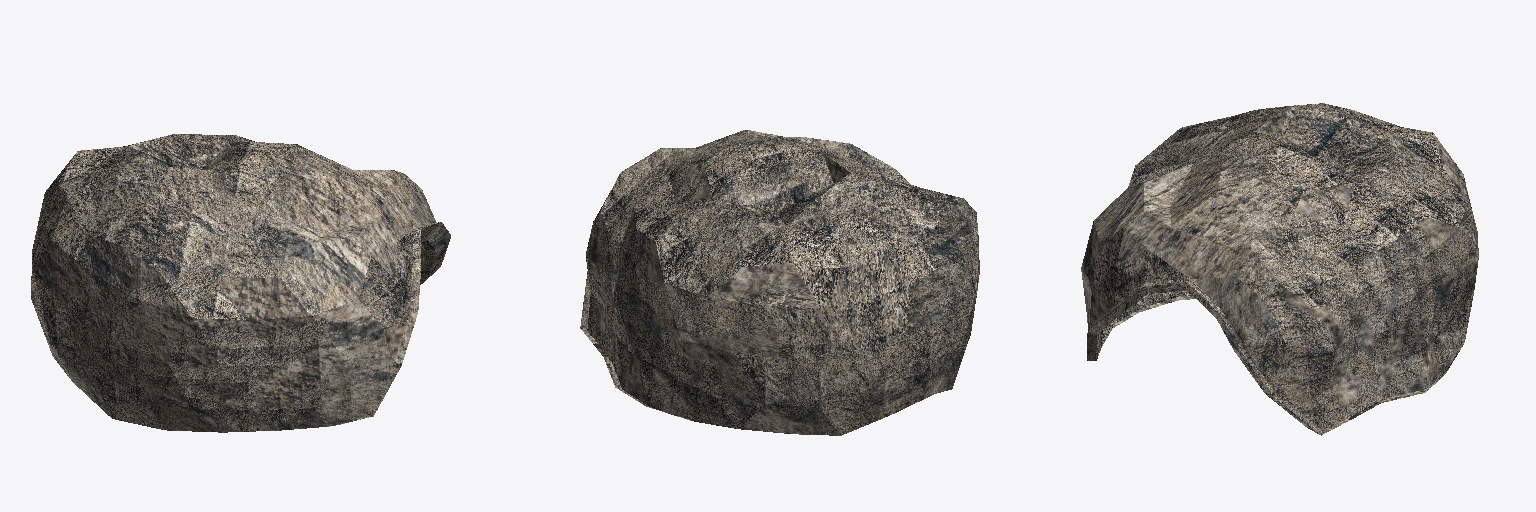
3 renders of one model, left to right at view 1: azimuth 30°, elevation 25°; view 2: azimuth 150°, elevation 25°; view 3: azimuth 270°, elevation 25°, orthographic.
Visible parts, largest first — view 1: Icosphere; view 2: Icosphere; view 3: Icosphere.
Boxes of the visible parts, x1=… form: Icosphere: x1=31, y1=134, x2=450, y2=432; Icosphere: x1=580, y1=130, x2=979, y2=435; Icosphere: x1=1081, y1=103, x2=1478, y2=435.
Bounding box in the file's own units: 7.54 × 4.29 × 7.12.
1 materials, 1 textured.